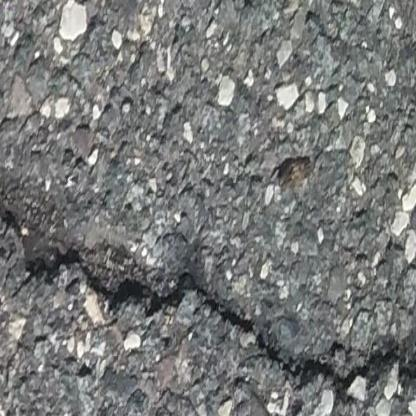Cracks: (0, 197, 416, 408)
